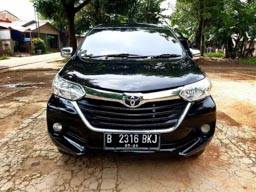plat: (103, 132, 159, 143)
